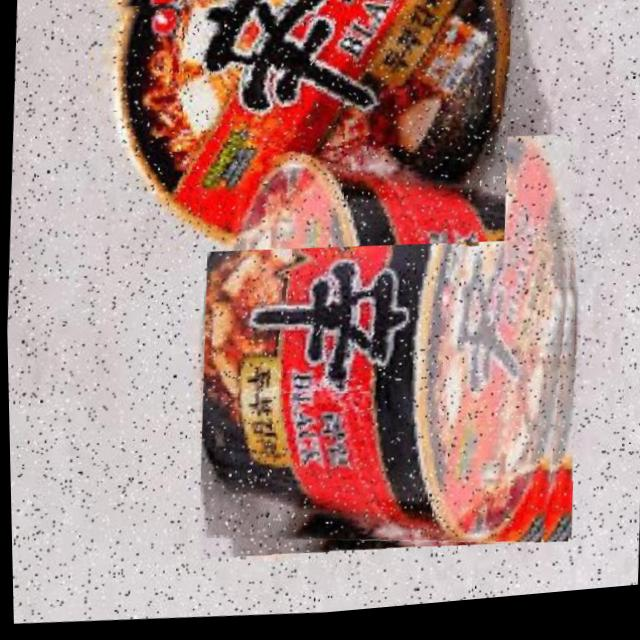Miscellaneous: (187, 126, 588, 580), (76, 0, 516, 280)
